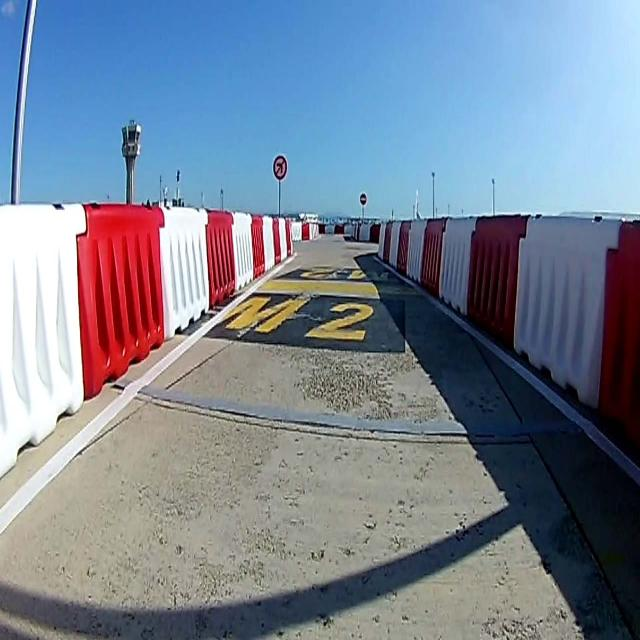soladonulmez: (273, 156, 287, 180)
